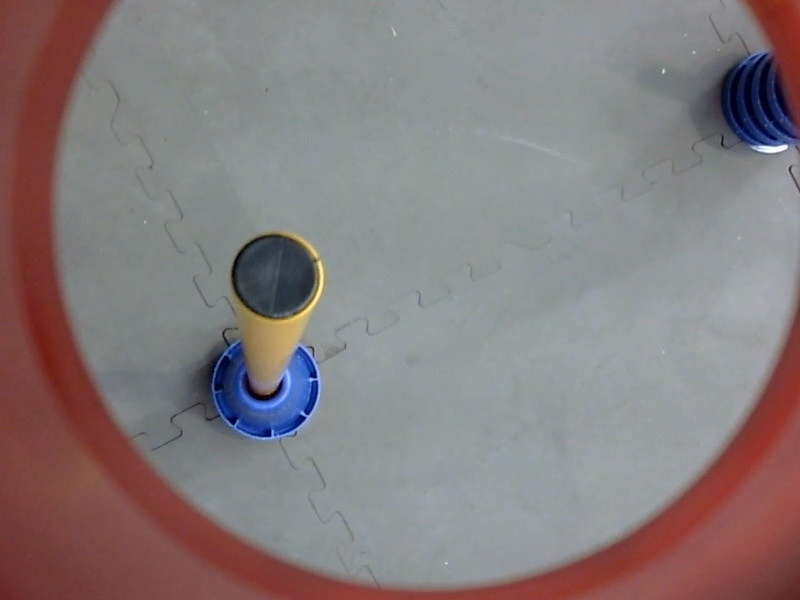tip: (225, 225, 328, 328)
